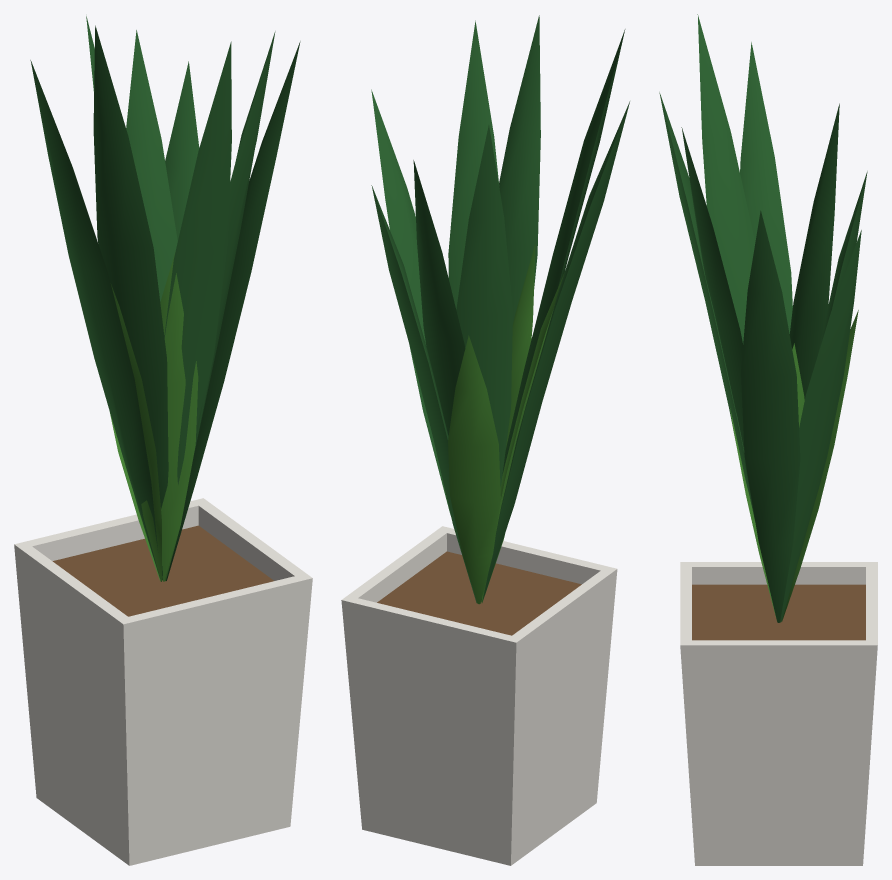
The model's file is plant-office.glb.
3 views of the same model, side by side, from view 1: azimuth 30°, elevation 25°; view 2: azimuth 150°, elevation 25°; view 3: azimuth 270°, elevation 25° (orthographic). The views are drawn at different scales.
Parts seen in each view (by area): view 1: Office plant pot, Office plant leaves, Office plant young leaves; view 2: Office plant pot, Office plant leaves, Office plant young leaves; view 3: Office plant pot, Office plant leaves, Office plant young leaves.
Part boxes in pixels (x1,y1,x2,y2): Office plant pot: (14,498,312,865); Office plant leaves: (30,16,300,580); Office plant young leaves: (110,251,198,581); Office plant pot: (341,526,617,865); Office plant leaves: (371,15,629,602); Office plant young leaves: (448,244,564,604); Office plant pot: (680,562,877,865); Office plant leaves: (659,14,867,622); Office plant young leaves: (730,310,858,621).
Size of the model in its own units: 0.4363 by 1.28 by 0.332.
